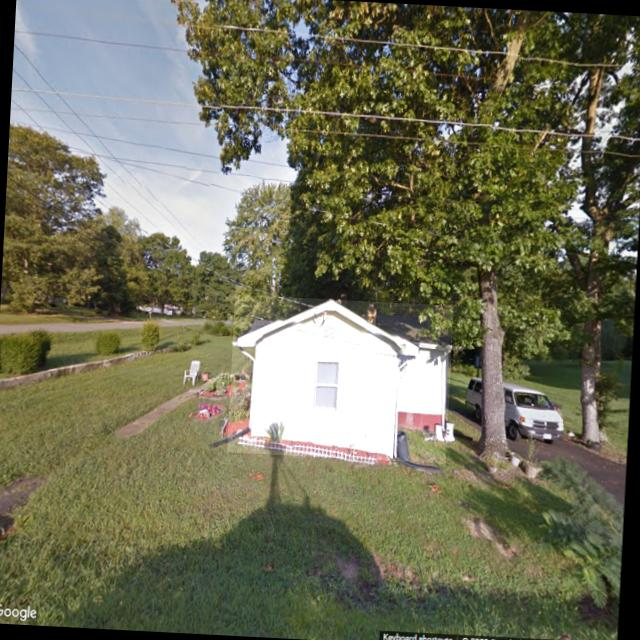House: (227, 294, 454, 463)
